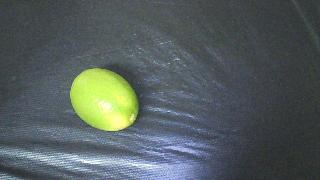LOCAL: (70, 68, 139, 131)
